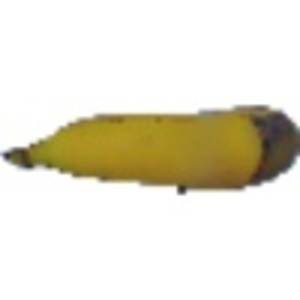banana: (2, 97, 298, 192)
